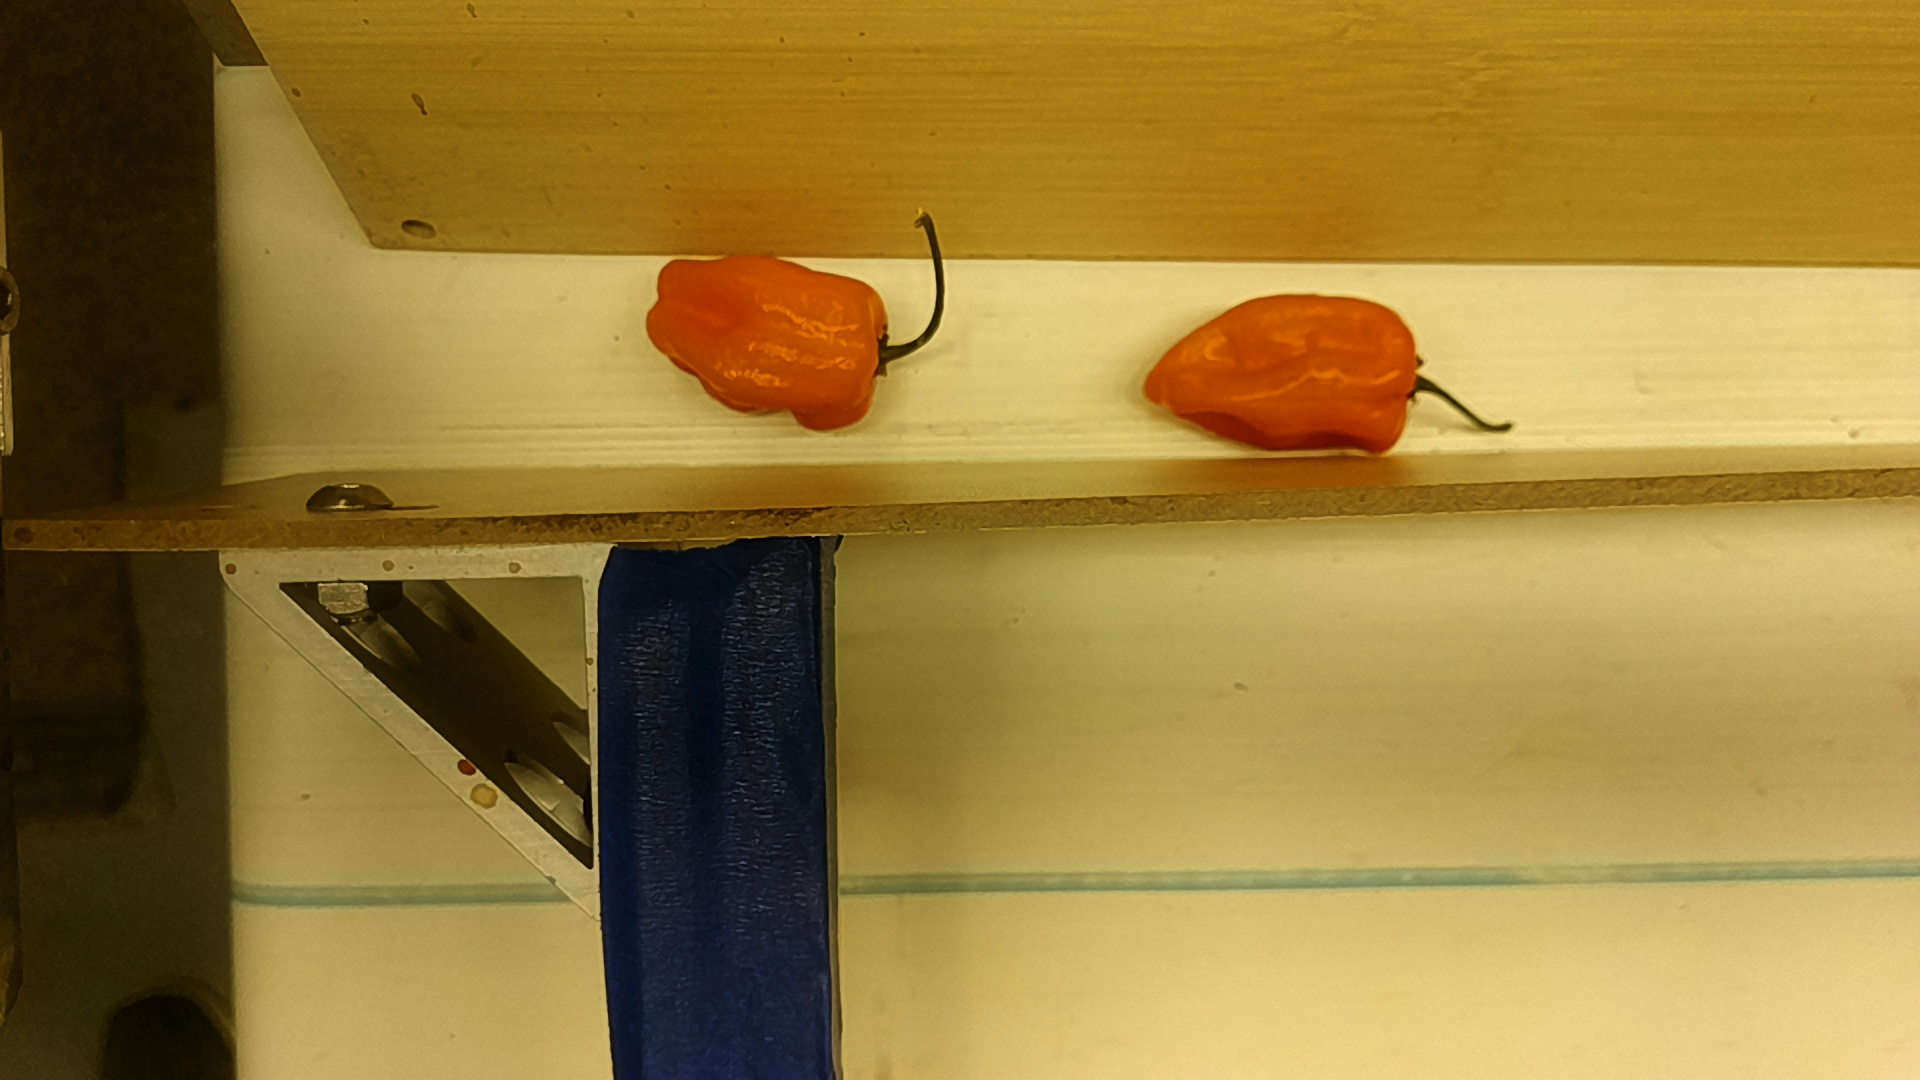Cut Point: (843, 273, 898, 430), (1381, 302, 1428, 458)
